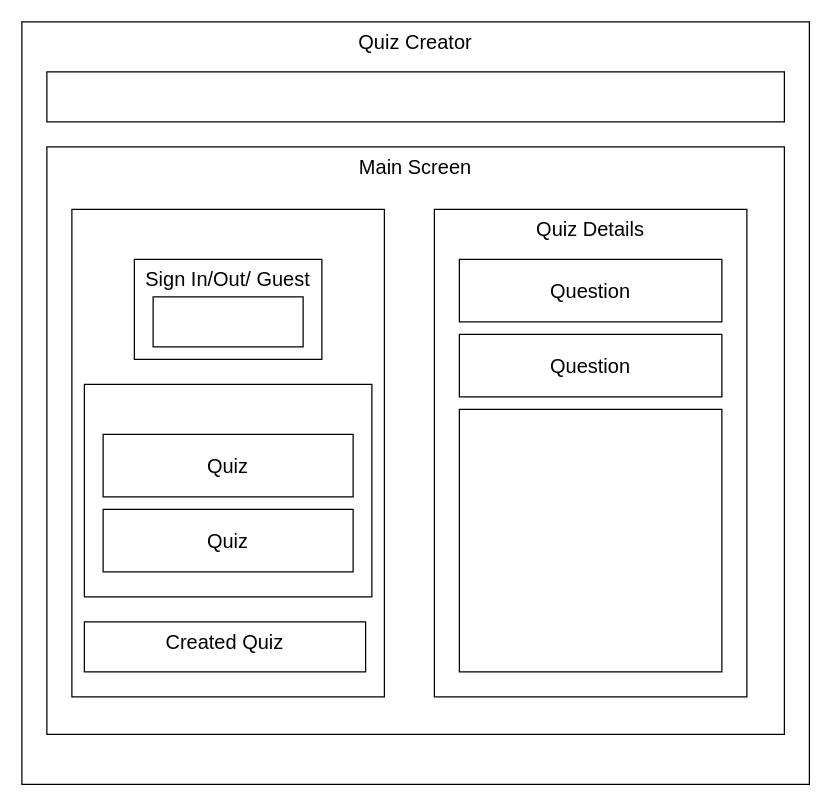
The diagram is 831 pixels wide and 806 high, and some of its shapes have lost their labels. The box of each missing label's shape, as (x1, y1, x2, y2) in pixels:
Header Navbar: (46, 71, 784, 122)
QuizzesList: (83, 383, 372, 597)
Results: (458, 408, 722, 672)
Sign Up: (152, 296, 303, 347)
Start Screen: (71, 208, 384, 697)
